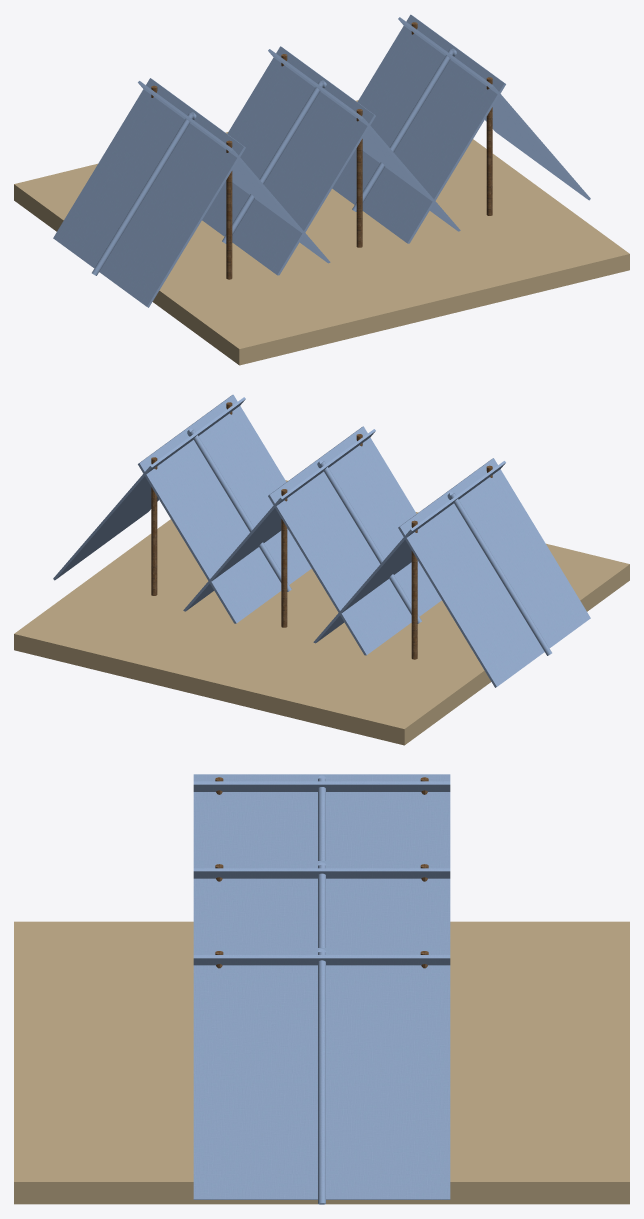
The model's file is acampamento.glb.
The picture shows the model from 3 angles, top to bottom: view 1: azimuth 30°, elevation 25°; view 2: azimuth 150°, elevation 25°; view 3: azimuth 270°, elevation 25°; orthographic projection. The views are drawn at different scales.
Visible parts, largest first — view 1: Base ilustrativa, Pano, Pano.004, Pano.002, Pano.005, Pano.001, Pano.003, Borda inclinada, Borda inclinada.002, Borda inclinada.004, Polo.001, Polo.005 (+1 smaller); view 2: Base ilustrativa, Pano, Pano.002, Pano.004, Pano.005, Pano.001, Pano.003, Borda inclinada, Borda inclinada.002, Borda inclinada.004, Polo, Polo.004 (+1 smaller); view 3: Base ilustrativa, Pano.005, Pano.003, Pano.001, Pano, Pano.002, Pano.004, Borda inclinada.005, Borda inclinada.003, Borda inclinada.001.
Part boxes in pixels (bbox=[...]): Base ilustrativa: bbox=[14, 100, 629, 365]; Pano: bbox=[53, 78, 245, 307]; Pano.004: bbox=[332, 14, 505, 243]; Pano.002: bbox=[202, 46, 375, 275]; Pano.005: bbox=[398, 17, 590, 200]; Pano.001: bbox=[138, 81, 330, 263]; Pano.003: bbox=[268, 49, 460, 231]; Borda inclinada: bbox=[92, 113, 193, 275]; Borda inclinada.002: bbox=[222, 81, 323, 243]; Borda inclinada.004: bbox=[352, 49, 453, 211]; Polo.001: bbox=[226, 140, 232, 279]; Polo.005: bbox=[486, 77, 492, 215]; Base ilustrativa: bbox=[14, 480, 629, 745]; Pano: bbox=[398, 458, 590, 687]; Pano.002: bbox=[268, 426, 441, 655]; Pano.004: bbox=[138, 394, 311, 623]; Pano.005: bbox=[53, 397, 245, 580]; Pano.001: bbox=[313, 461, 505, 643]; Pano.003: bbox=[183, 429, 375, 611]; Borda inclinada: bbox=[450, 493, 551, 655]; Borda inclinada.002: bbox=[320, 461, 421, 623]; Borda inclinada.004: bbox=[190, 429, 291, 591]; Polo: bbox=[411, 520, 417, 659]; Polo.004: bbox=[151, 457, 157, 595]; Base ilustrativa: bbox=[14, 921, 629, 1204]; Pano.005: bbox=[193, 948, 450, 1199]; Pano.003: bbox=[193, 861, 450, 947]; Pano.001: bbox=[193, 774, 450, 860]; Pano: bbox=[193, 781, 450, 791]; Pano.002: bbox=[193, 868, 450, 878]; Pano.004: bbox=[193, 955, 450, 965]; Borda inclinada.005: bbox=[318, 951, 325, 1204]; Borda inclinada.003: bbox=[318, 865, 325, 947]; Borda inclinada.001: bbox=[318, 778, 325, 860].
Bounding box in the file's own units: 7.06 × 2.26 × 6.
4 materials, 3 textured.
